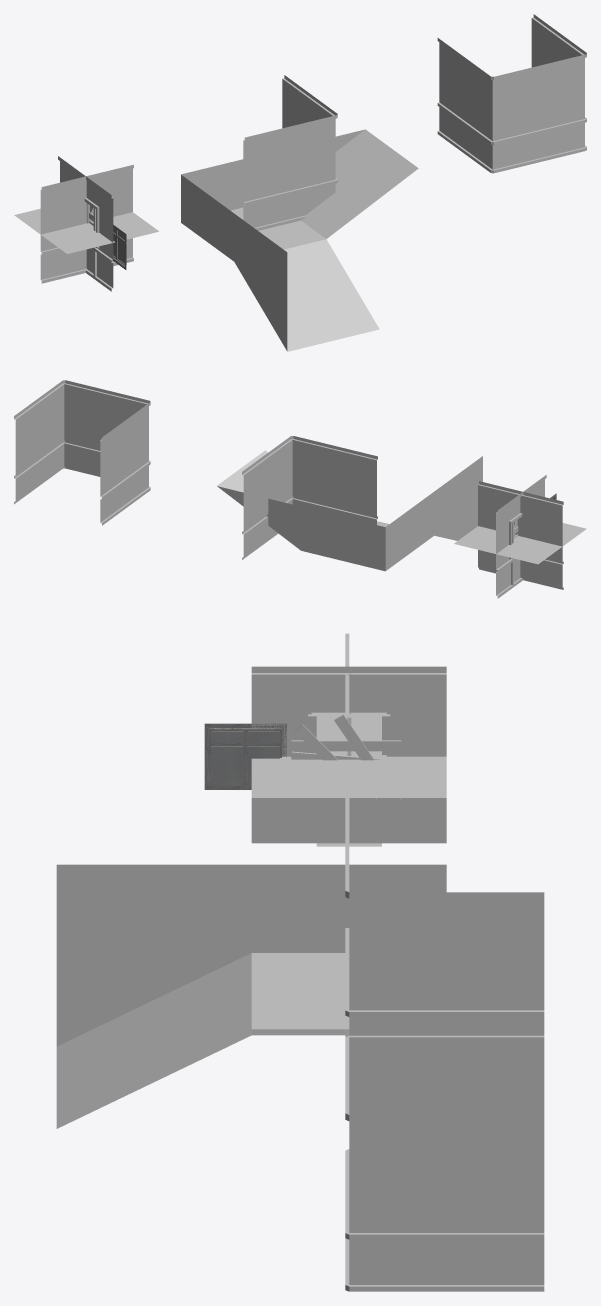
File: ModularHouseSet.FBX
3 renders of one model, top to bottom at view 1: azimuth 30°, elevation 25°; view 2: azimuth 150°, elevation 25°; view 3: azimuth 270°, elevation 25°, orthographic. The views are drawn at different scales.
Visible parts, largest first — view 1: LaderDown, Wall2Angle, WallAngle, Wall, Wall_Window, Floor, Cell, Window01; view 2: Wall2Angle, LaderDown, WallAngle, Wall, Wall_Window, Floor, Cell; view 3: LaderDown, Wall2Angle, WallAngle, Wall_Doorway, Floor, Window01, Wall_Window, Cell, Window02.
Part boxes in pixels (x1,y1,x2,y2): LaderDown: (181, 129, 418, 351); Wall2Angle: (437, 14, 586, 173); WallAngle: (243, 75, 337, 230); Wall: (40, 164, 133, 283); Wall_Window: (58, 156, 113, 291); Floor: (14, 208, 139, 249); Cell: (46, 212, 158, 253); Window01: (112, 225, 126, 269); Wall2Angle: (14, 380, 150, 525); LaderDown: (217, 450, 482, 571); WallAngle: (242, 436, 377, 559); Wall: (478, 481, 563, 589); Wall_Window: (496, 475, 546, 598); Floor: (454, 526, 572, 564); Cell: (490, 523, 586, 550); LaderDown: (56, 864, 446, 1128); Wall2Angle: (345, 1029, 544, 1291); WallAngle: (345, 814, 544, 1029); Wall_Doorway: (251, 666, 446, 846); Floor: (257, 717, 446, 797); Window01: (204, 723, 286, 789); Wall_Window: (251, 673, 445, 843); Cell: (251, 717, 376, 797); Window02: (291, 714, 401, 805).
Size of the model in its own units: 3.01 by 0.7773 by 1.27.
